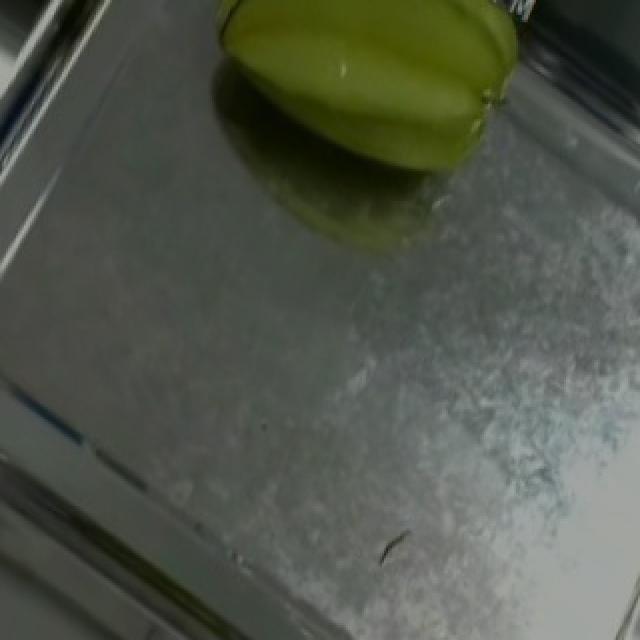fruit: (192, 0, 566, 233)
